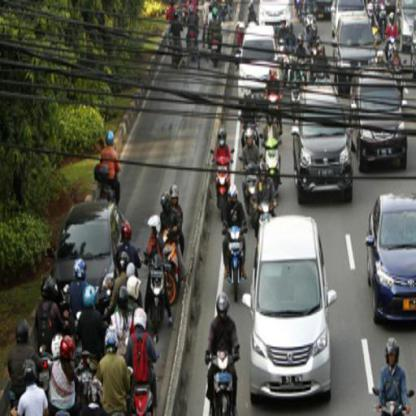bus: (331, 1, 375, 65)
car: (244, 215, 338, 407), (290, 84, 359, 209), (54, 200, 126, 290), (367, 196, 415, 327), (350, 74, 411, 175)
motorbike: (142, 252, 177, 335), (206, 343, 241, 415), (222, 223, 247, 299), (212, 154, 236, 218), (371, 384, 415, 416), (263, 136, 287, 191), (240, 161, 262, 210)
